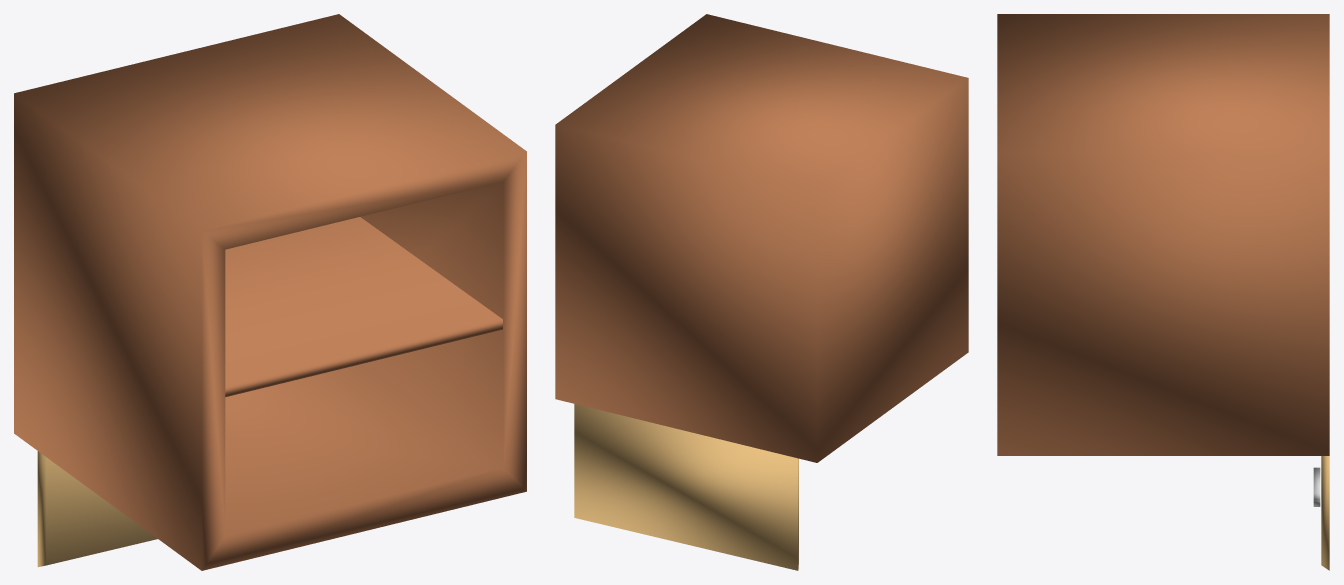
Rendered from Horizontal.Upper.fbx.
The picture shows the model from 3 angles, left to right: view 1: azimuth 30°, elevation 25°; view 2: azimuth 150°, elevation 25°; view 3: azimuth 270°, elevation 25°; orthographic projection. The views are drawn at different scales.
Visible parts, largest first — view 1: Horizontal.Upper, Horizontal.Upper.Door.L, Horizontal.Upper.Door.U; view 2: Horizontal.Upper, Horizontal.Upper.Door.L, Horizontal.Upper.Door.U; view 3: Horizontal.Upper, Horizontal.Upper.Door.L.
Boxes of the visible parts, box(x1,y1,x2,y2) form: Horizontal.Upper: box(14, 14, 526, 570); Horizontal.Upper.Door.L: box(37, 451, 157, 566); Horizontal.Upper.Door.U: box(38, 457, 155, 566); Horizontal.Upper: box(555, 14, 968, 462); Horizontal.Upper.Door.L: box(574, 404, 798, 570); Horizontal.Upper.Door.U: box(574, 405, 798, 569); Horizontal.Upper: box(997, 14, 1329, 455); Horizontal.Upper.Door.L: box(1313, 456, 1329, 570).
Size of the model in its own units: 88.61 by 125 by 88.64.
